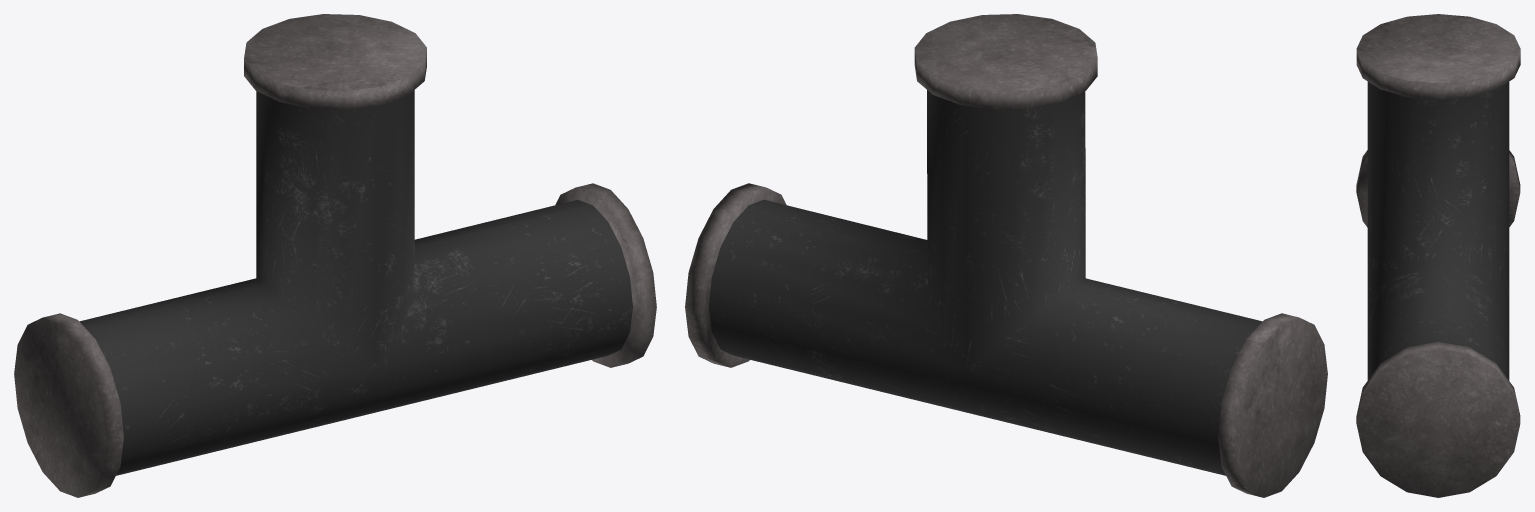
Rendered from PipeThreeway.fbx.
3 views of the same model, side by side, from view 1: azimuth 30°, elevation 25°; view 2: azimuth 150°, elevation 25°; view 3: azimuth 270°, elevation 25° (orthographic). The views are drawn at different scales.
Parts seen in each view (by area): view 1: PipeThreeway; view 2: PipeThreeway; view 3: PipeThreeway.
Part boxes in pixels (x1,y1,x2,y2): PipeThreeway: (14,14,656,497); PipeThreeway: (685,14,1327,497); PipeThreeway: (1356,14,1520,497).
Bounding box in the file's own units: 100 × 64.49 × 29.06.
Materials: 1 (1 with a texture image).
